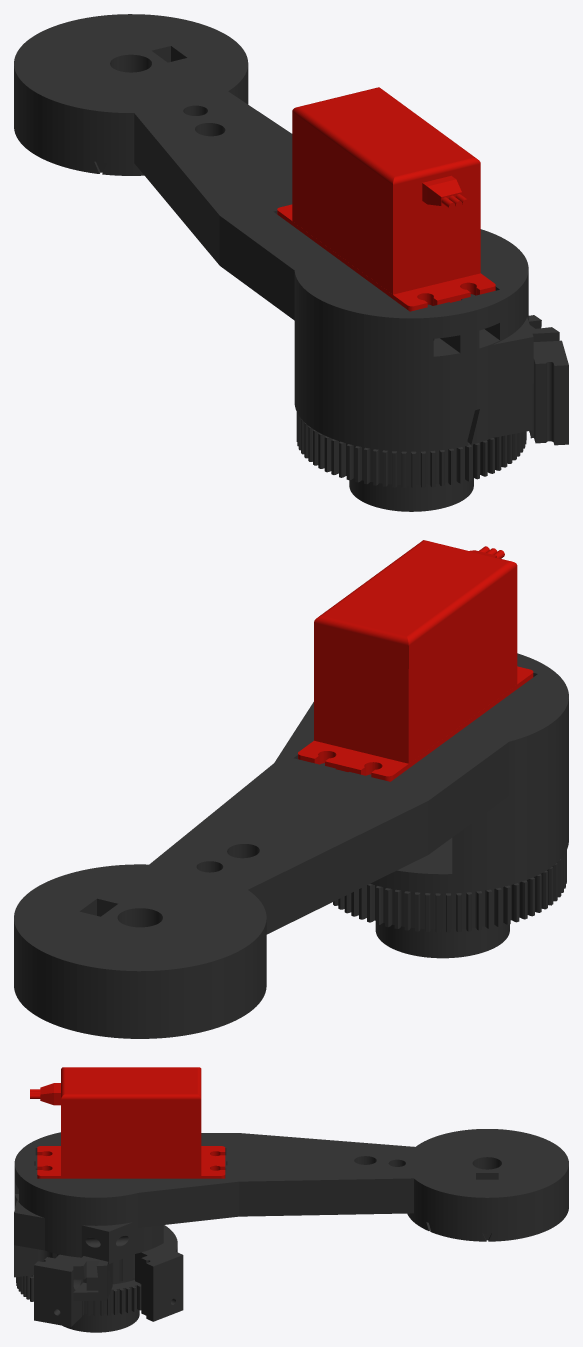
Rendered from femur_l.obj.
3 views of the same model, one above another, from view 1: azimuth 30°, elevation 25°; view 2: azimuth 150°, elevation 25°; view 3: azimuth 270°, elevation 25° (orthographic). The views are drawn at different scales.
Visible parts, largest first — view 1: femur_l_Servo.029; view 2: femur_l_Servo.029; view 3: femur_l_Servo.029.
Boxes of the visible parts, left/top/right/bottom form: femur_l_Servo.029: left=14, top=14, right=568, bottom=511; femur_l_Servo.029: left=14, top=540, right=568, bottom=1038; femur_l_Servo.029: left=14, top=1067, right=568, bottom=1332.
Size of the model in its own units: 0.0546 by 0.0746 by 0.1609.
